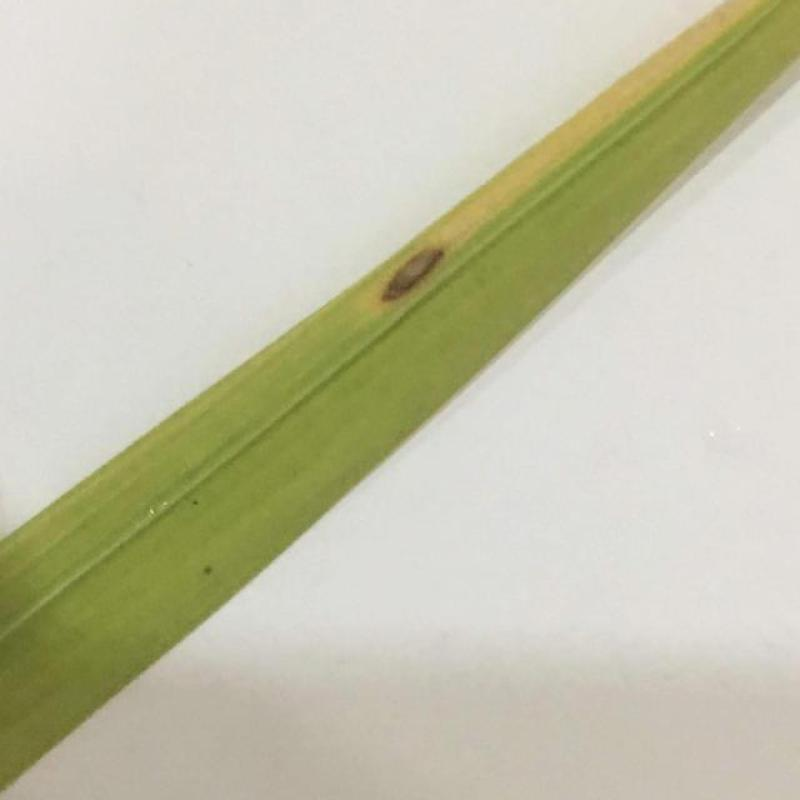Leaf_Blast: (364, 208, 458, 388)
